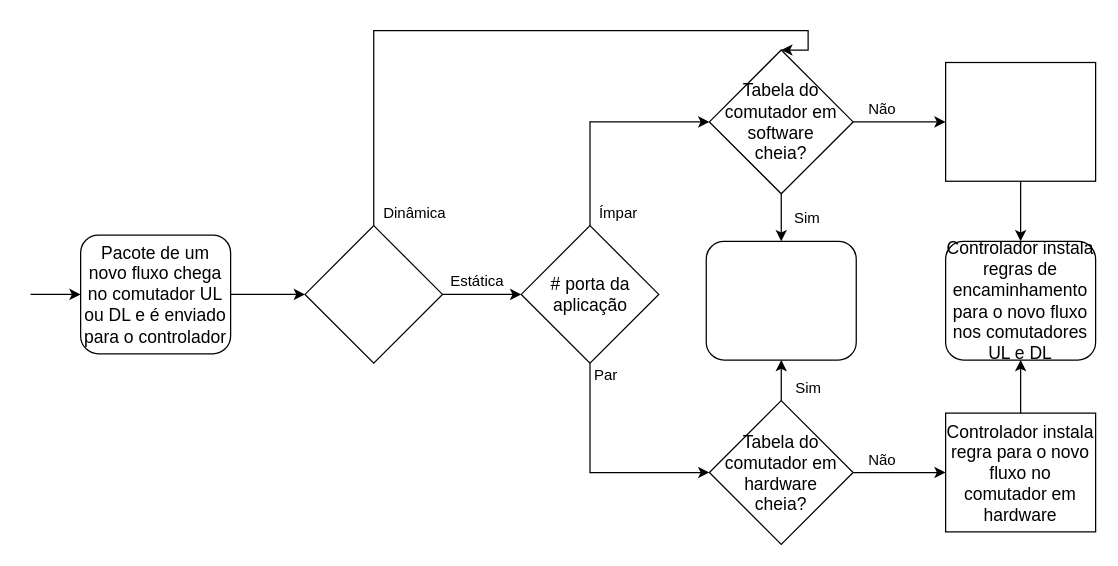
The diagram is 1118 pixels wide and 566 high, and some of its shapes have lost their labels. The shapes that lost their labels are listed below. From the top down, each one's centre as x and y in pixels, then its label:
At (1020,121): "Controlador instala regra para o novo fluxo no comutador em software".
At (373,293): "Política de balanceamento de carga".
At (780,300): "Novo fluxo é bloqueado".
